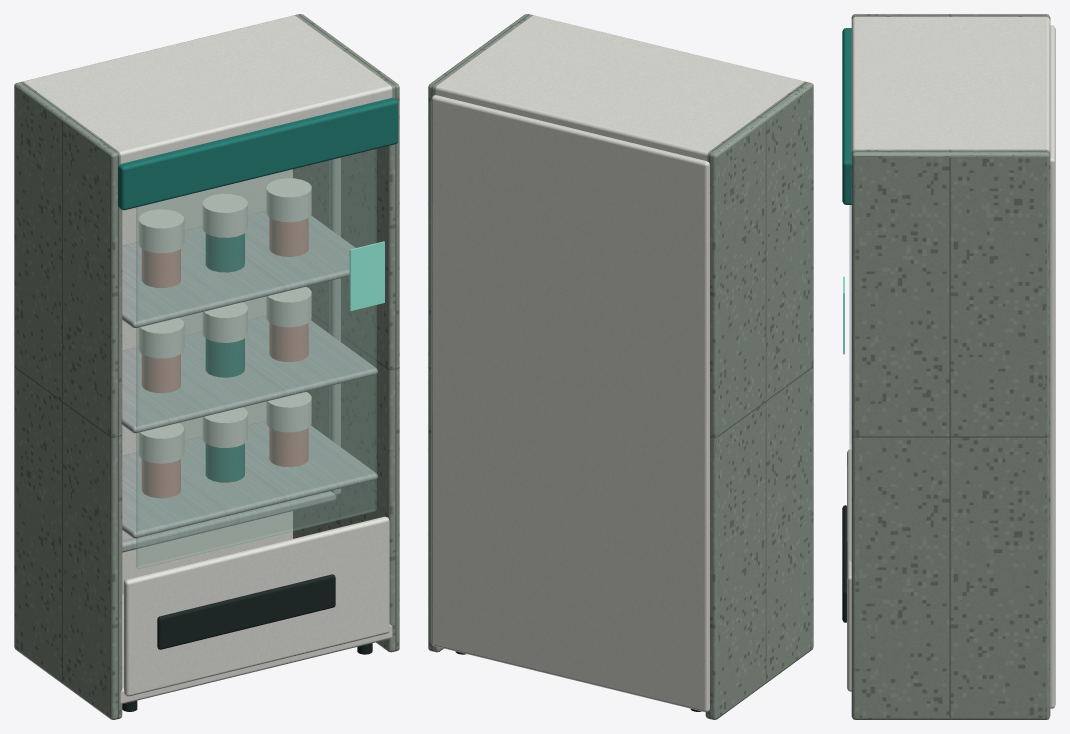
The model's file is detail-toy-cabinet-1.glb.
3 renders of one model, left to right at view 1: azimuth 30°, elevation 25°; view 2: azimuth 150°, elevation 25°; view 3: azimuth 270°, elevation 25°, orthographic.
Visible parts, largest first — view 1: cabinet_side (×2), display_glass, shelf (×3), cabinet_cap (×2), lower_door, toy_head (×9), header, toy_body (×9), cabinet_back, pickup_opening, frame_rail, frame_side (+1 smaller); view 2: cabinet_back, cabinet_side (×2), cabinet_cap; view 3: cabinet_side (×2), cabinet_cap, cabinet_back, header, lower_door, display_glass, pickup_opening.
Part boxes in pixels (left/top/right/bottom): cabinet_side (×2): left=14, top=14, right=399, bottom=719; display_glass: left=136, top=149, right=376, bottom=568; shelf (×3): left=122, top=211, right=377, bottom=538; cabinet_cap (×2): left=23, top=15, right=392, bottom=703; lower_door: left=123, top=516, right=389, bottom=696; toy_head (×9): left=138, top=178, right=311, bottom=463; header: left=118, top=97, right=398, bottom=210; toy_body (×9): left=141, top=218, right=308, bottom=498; cabinet_back: left=122, top=169, right=292, bottom=594; pickup_opening: left=157, top=574, right=335, bottom=649; frame_rail: left=122, top=491, right=336, bottom=552; frame_side: left=329, top=157, right=340, bottom=495; cabinet_back: left=431, top=95, right=709, bottom=712; cabinet_side (×2): left=428, top=14, right=813, bottom=719; cabinet_cap: left=435, top=15, right=804, bottom=160; cabinet_side (×2): left=851, top=14, right=1050, bottom=719; cabinet_cap: left=851, top=17, right=1050, bottom=152; cabinet_back: left=1050, top=25, right=1055, bottom=708; header: left=842, top=28, right=851, bottom=204; lower_door: left=847, top=449, right=851, bottom=691; display_glass: left=849, top=205, right=851, bottom=561; pickup_opening: left=842, top=505, right=846, bottom=622.
Bounding box in the file's own units: 1.1 × 2.05 × 0.6975.
Materials: 8 (6 with a texture image).
